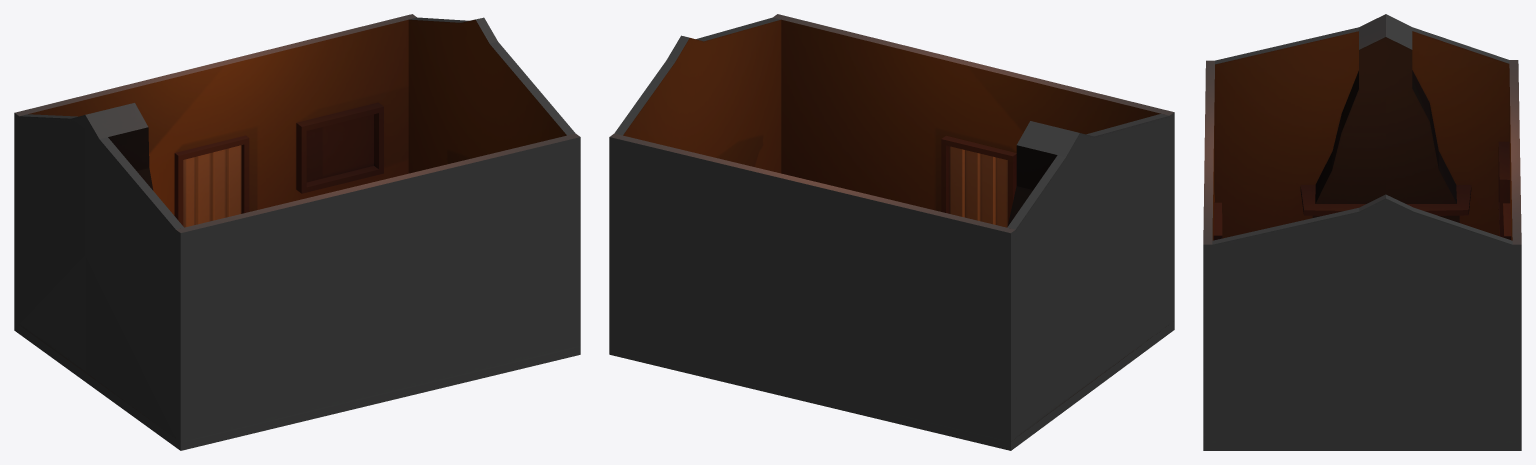
Rendered from scene_full.fbx.
The picture shows the model from 3 angles, left to right: view 1: azimuth 30°, elevation 25°; view 2: azimuth 150°, elevation 25°; view 3: azimuth 270°, elevation 25°; orthographic projection. The views are drawn at different scales.
Visible parts, largest first — view 1: PlayerHouse; view 2: PlayerHouse; view 3: PlayerHouse.
Part boxes in pixels (box(x1,y1,x2,y2)): PlayerHouse: box(14, 14, 580, 450); PlayerHouse: box(609, 14, 1174, 450); PlayerHouse: box(1203, 14, 1521, 450).
Size of the model in its own units: 6.32 by 4.03 by 4.6.
